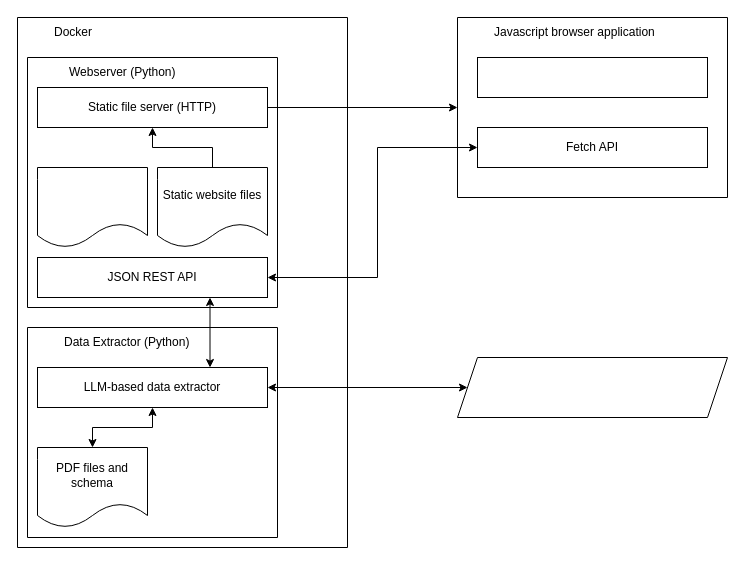
This 745x565 diagram has some shape labels left out. The shapes that lost their labels are listed below. From the top down, each one's centre as x and y in pixels, then its label:
At point 592,77: "Three.js (WebGL)".
At point 92,207: "Configuration file (config.ini)".
At point 592,387: "OpenAI API".
